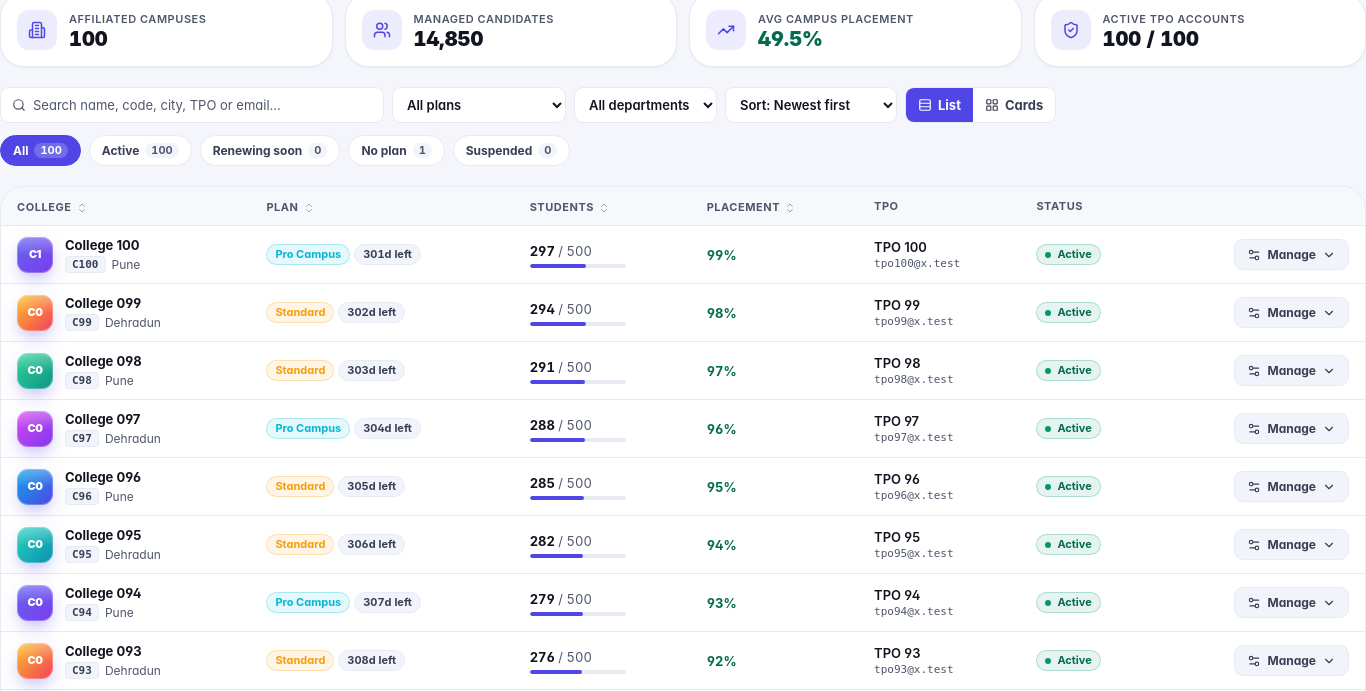
it: a hundred colleges › filters by plan state, plan tier and search together, and clears them
This screenshot has width=1366, height=691.
Step 1. Click the button "No plan 1" → point(397, 150), box [348, 135, 445, 166]
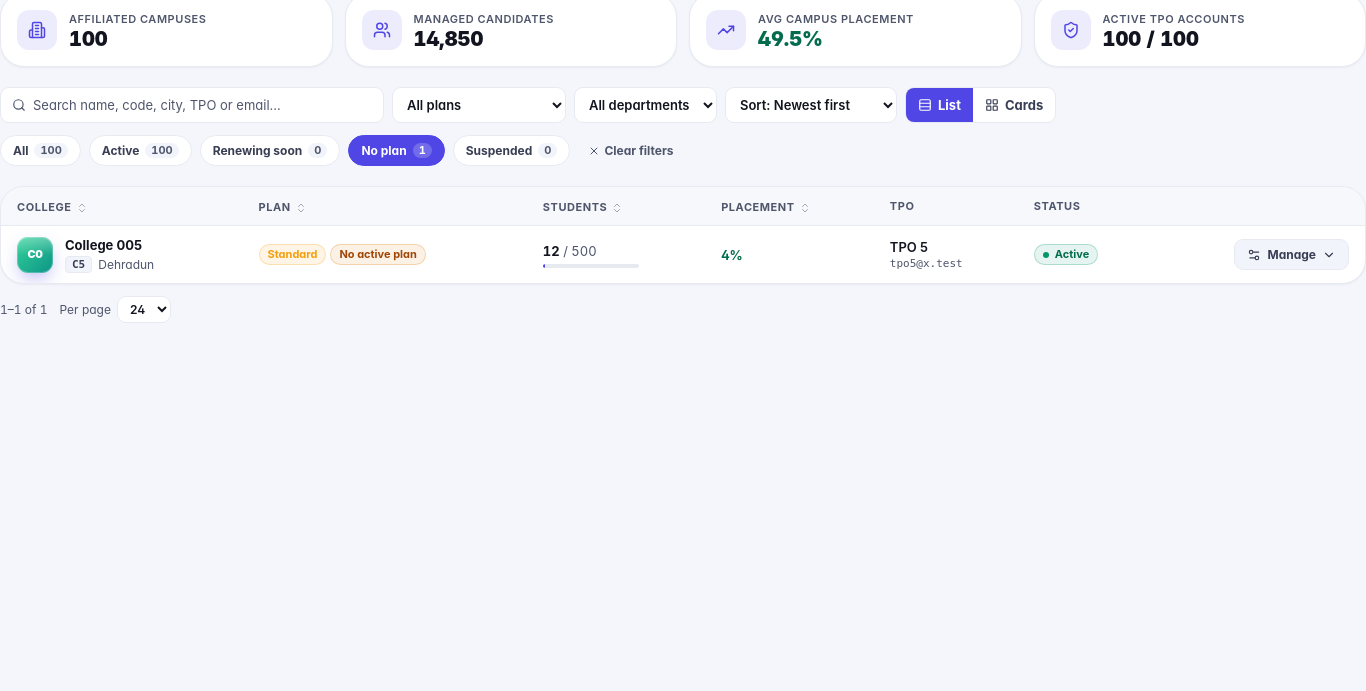
Now the number of rows with test id "college-row" is 1, box [1, 226, 1365, 283]
Step 2. Click the button "All 100" → point(40, 150), box [0, 135, 81, 166]
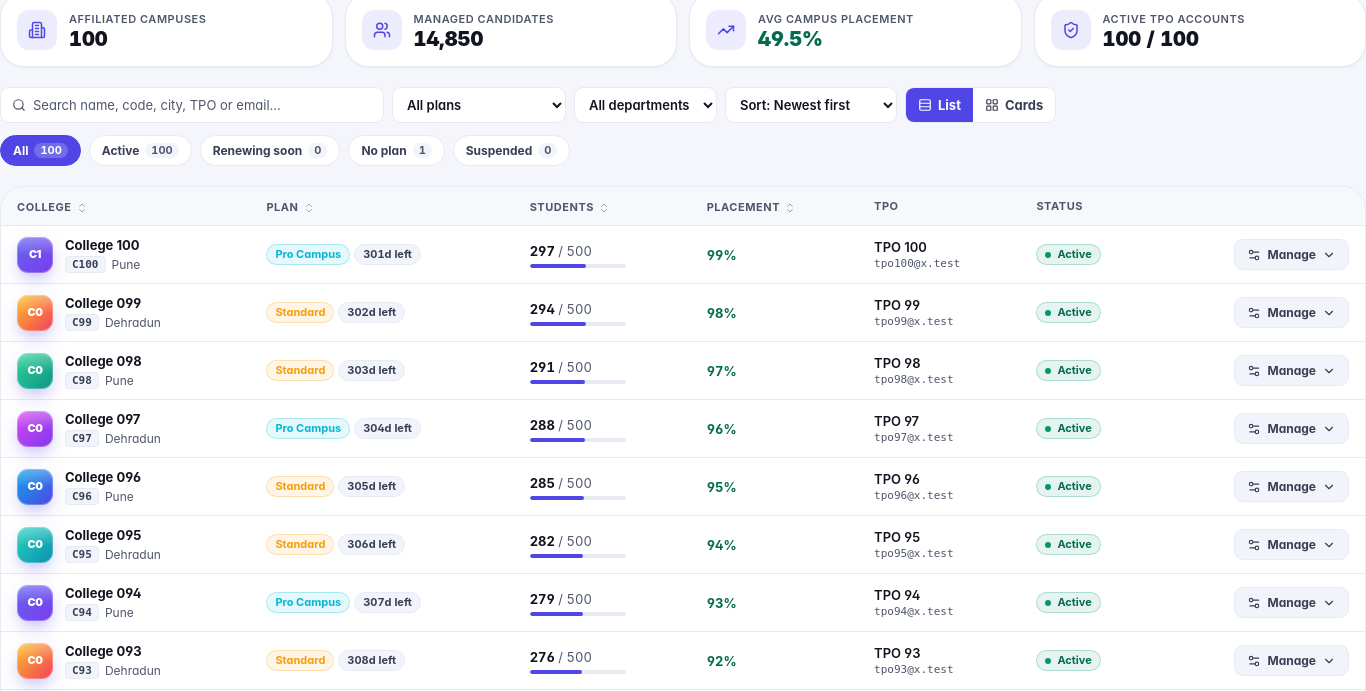
Step 3. Select "Pro Campus" in the dropdown named "Filter by plan" → point(479, 105), box [392, 87, 566, 123]
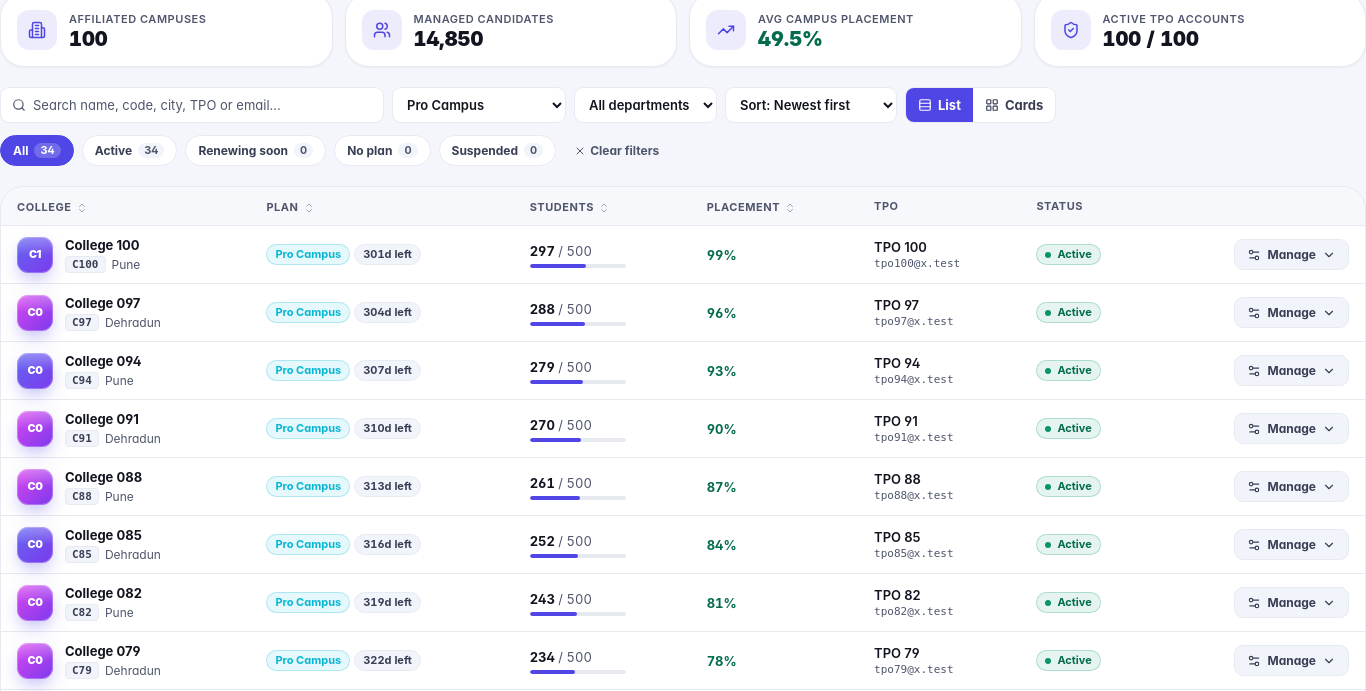
Step 4. Type "pune" into the search field named "Search universities" → point(192, 105), box [0, 87, 384, 123]
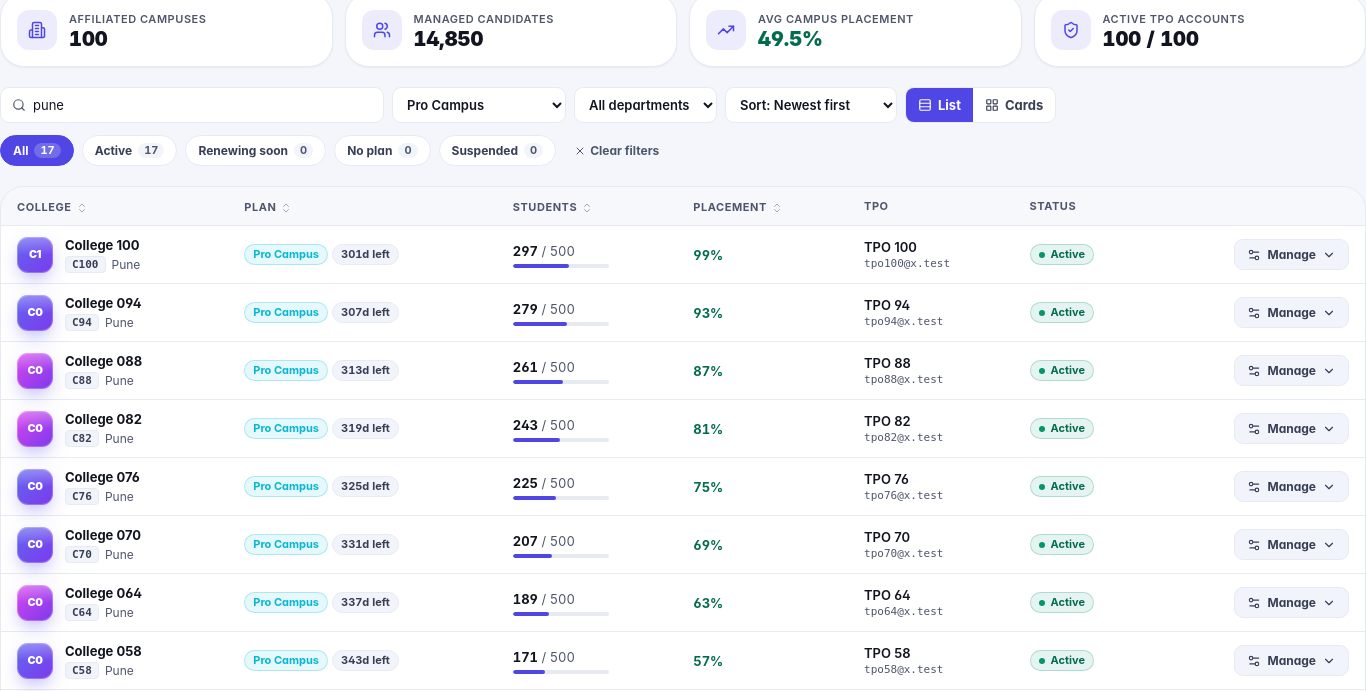
Step 5. Click the button "Clear filters" → point(617, 150), box [564, 136, 669, 165]
(page scrolled)
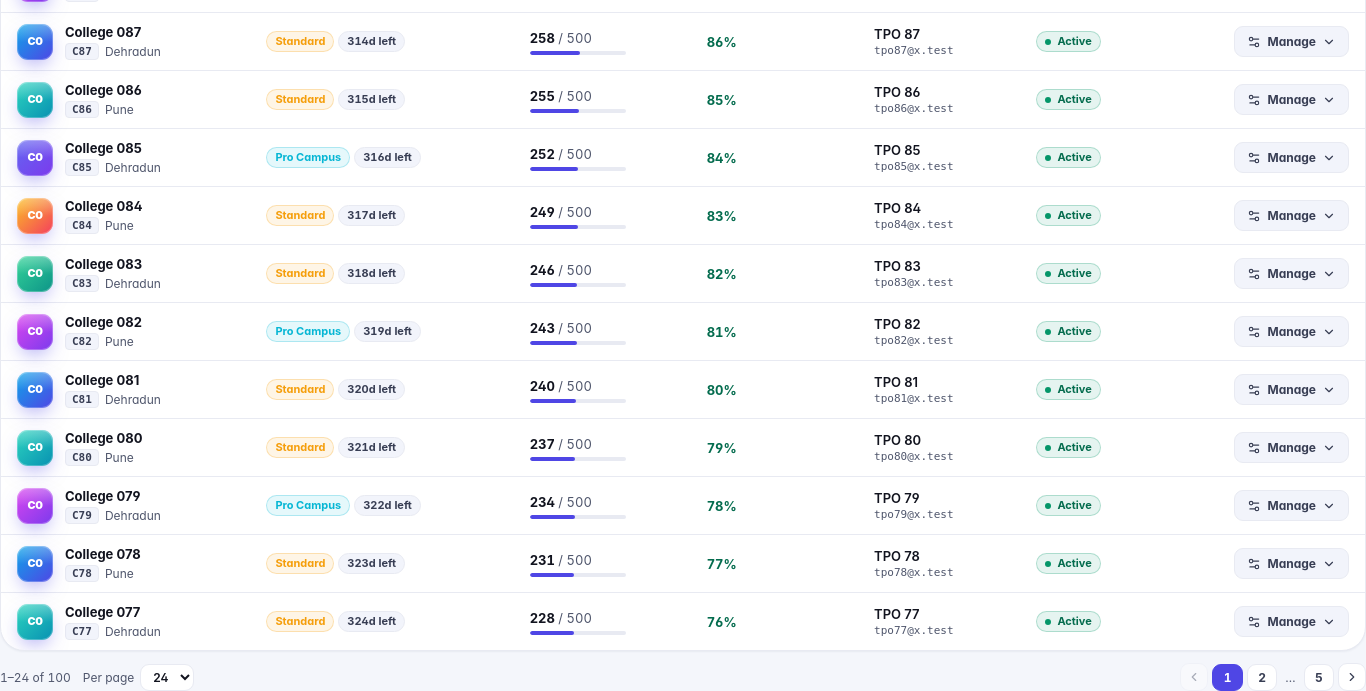
Now the text "1–24 of 100" is shown, box [0, 668, 71, 686]
